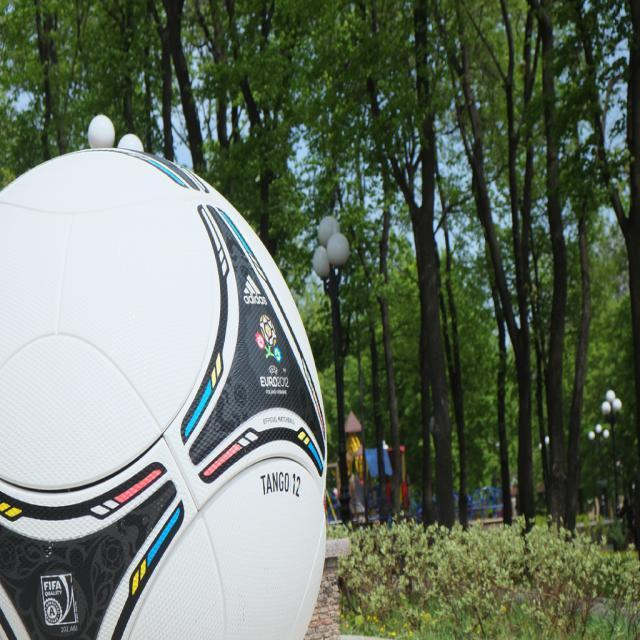football: (8, 130, 330, 640)
